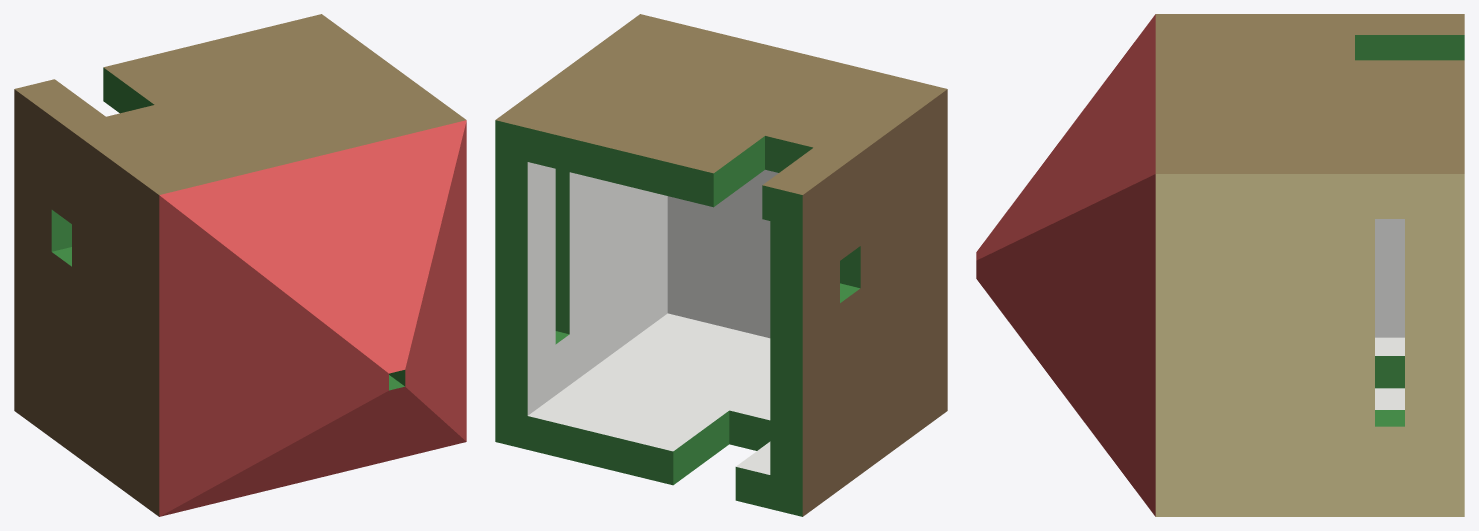
File: dach dach dach.obj
3 views of the same model, side by side, from view 1: azimuth 30°, elevation 25°; view 2: azimuth 150°, elevation 25°; view 3: azimuth 270°, elevation 25° (orthographic). The views are drawn at different scales.
Parts seen in each view (by area): view 1: Körper1; view 2: Körper1; view 3: Körper1.
Boxes of the visible parts, x1,y1,x2,y2 form: Körper1: [14, 14, 466, 516]; Körper1: [495, 14, 947, 516]; Körper1: [976, 14, 1464, 516].
Bounding box in the file's own units: 1.9 × 1.9 × 2.45.
